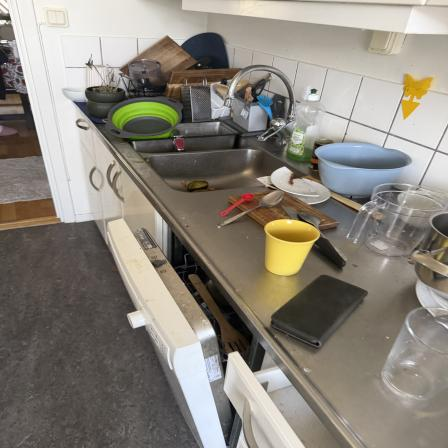phone: (269, 274, 368, 349)
yellow_cup: (260, 220, 323, 278)
